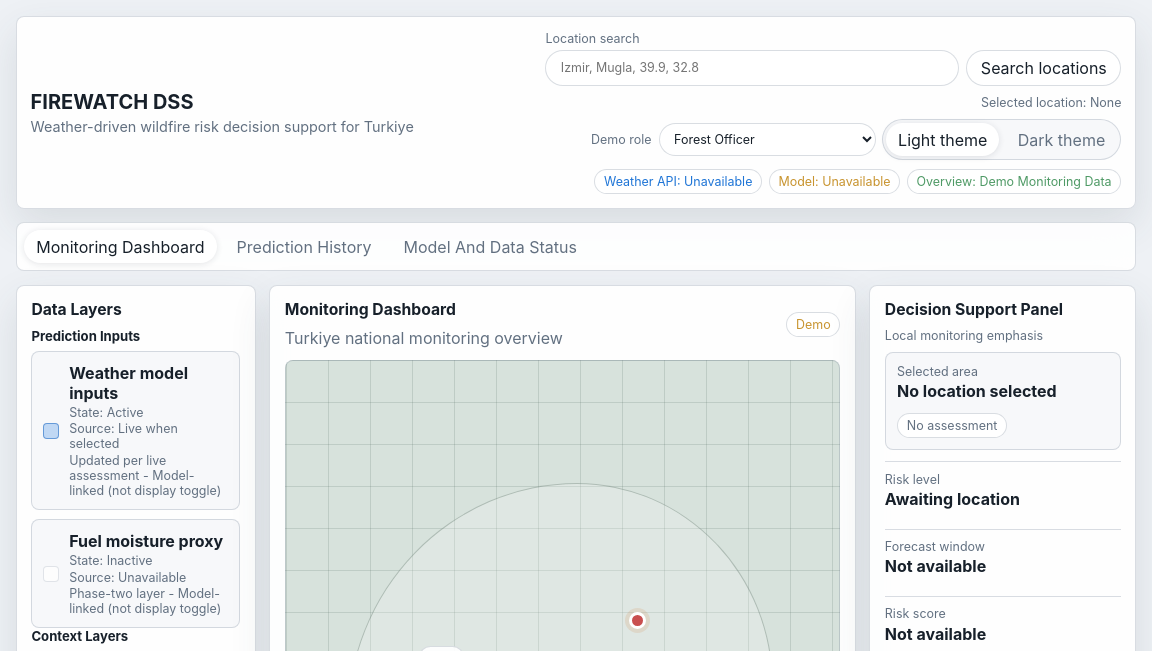
it: FIREWATCH dashboard shell › shows an unavailable message when Prediction History cannot be fetched
Click the button "Prediction History". click: (304, 247)
box: [225,230,384,263]
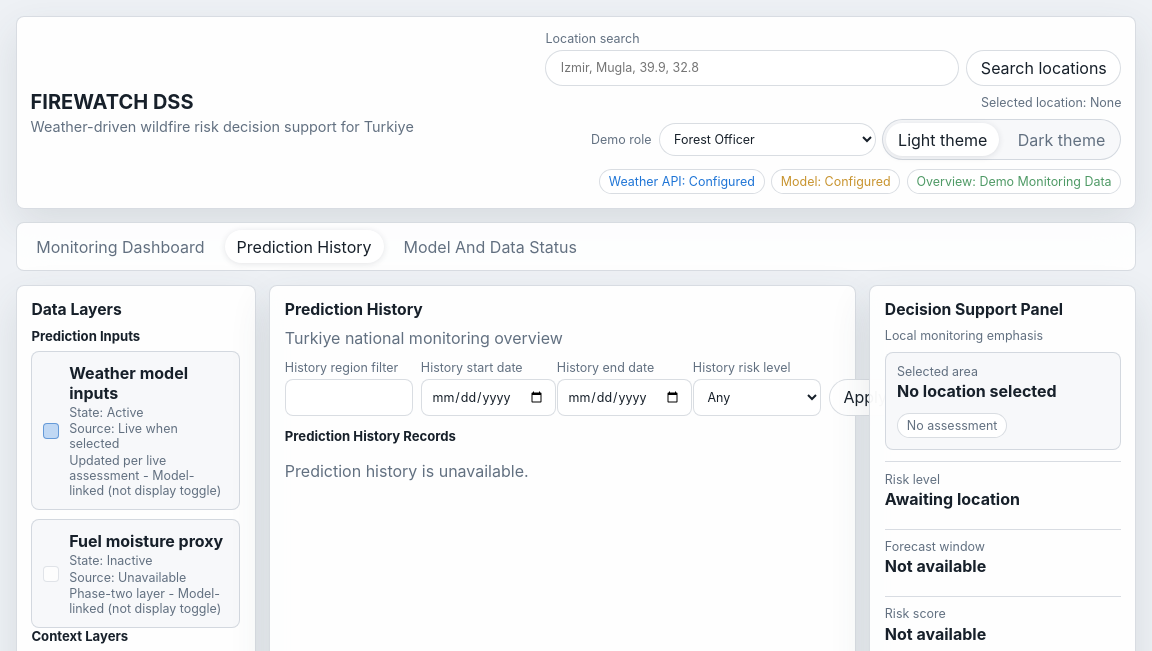
Check: the text "Prediction history is unavailable." is shown, box [285,461,529,481]
